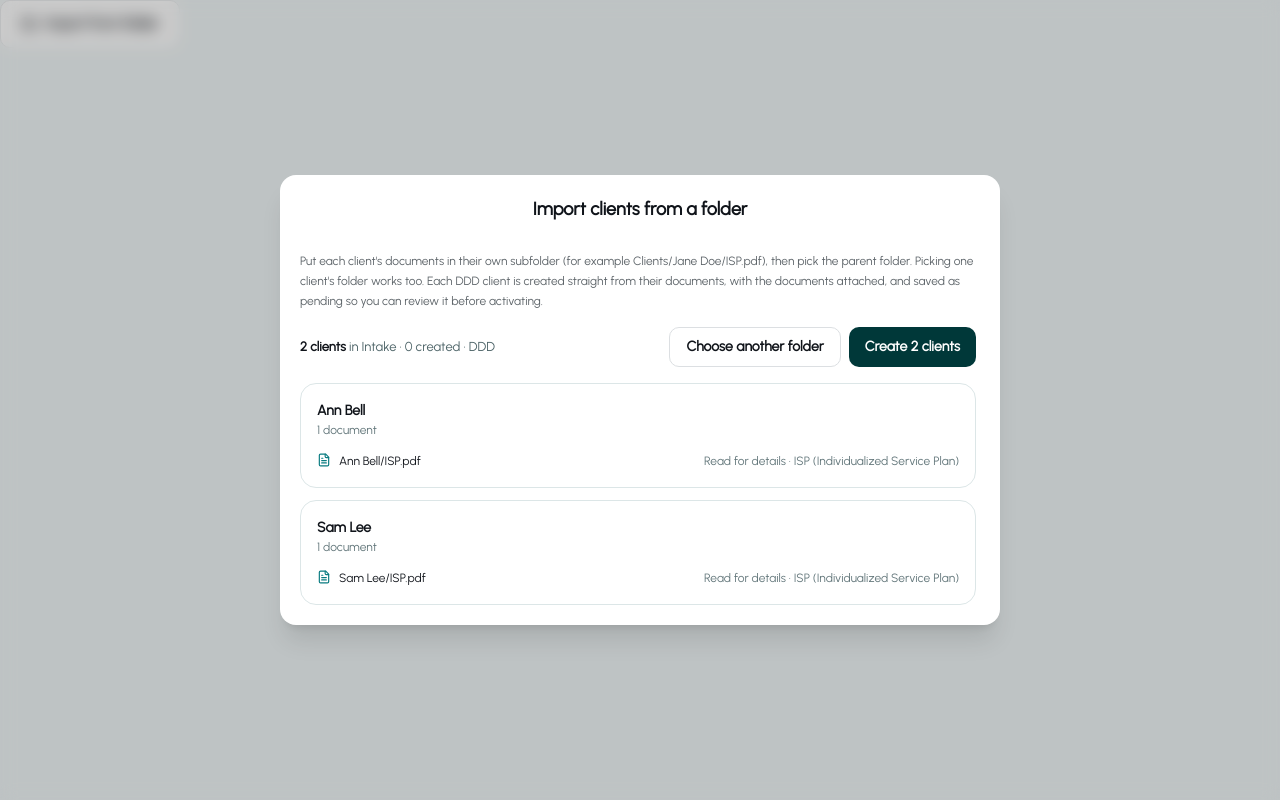
Test case: creates clients without the form, notifies once, and links to the review list
This screenshot has width=1280, height=800.
Earlier steps of the test are not shown.
Later steps or results of the test are not shown.
Click the button "Create 2 clients".
click(912, 347)  # box [849,327,976,367]
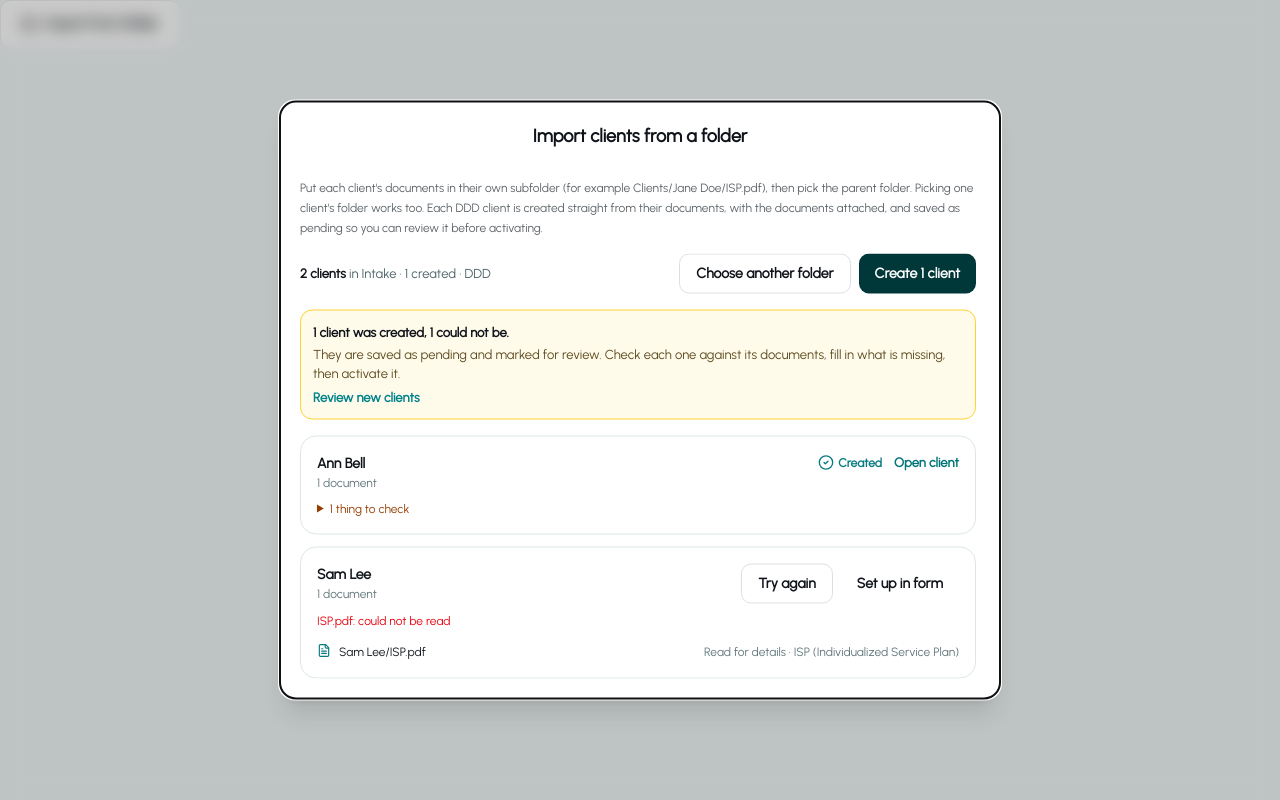
Expected: the text "1 client was created, 1 could not be." is shown, [313,324,509,340]
Expected: the heading "1 thing to check" is shown, [330,502,409,516]
Expected: the message "ISP.pdf: could not be read" is shown, [317,614,450,628]
